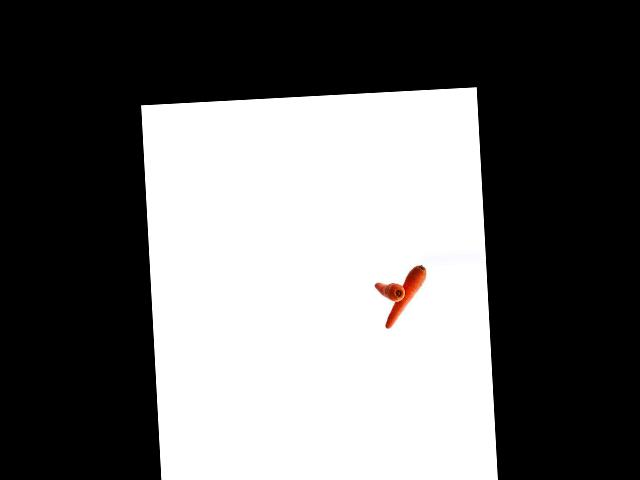carrot: (373, 277, 407, 303)
